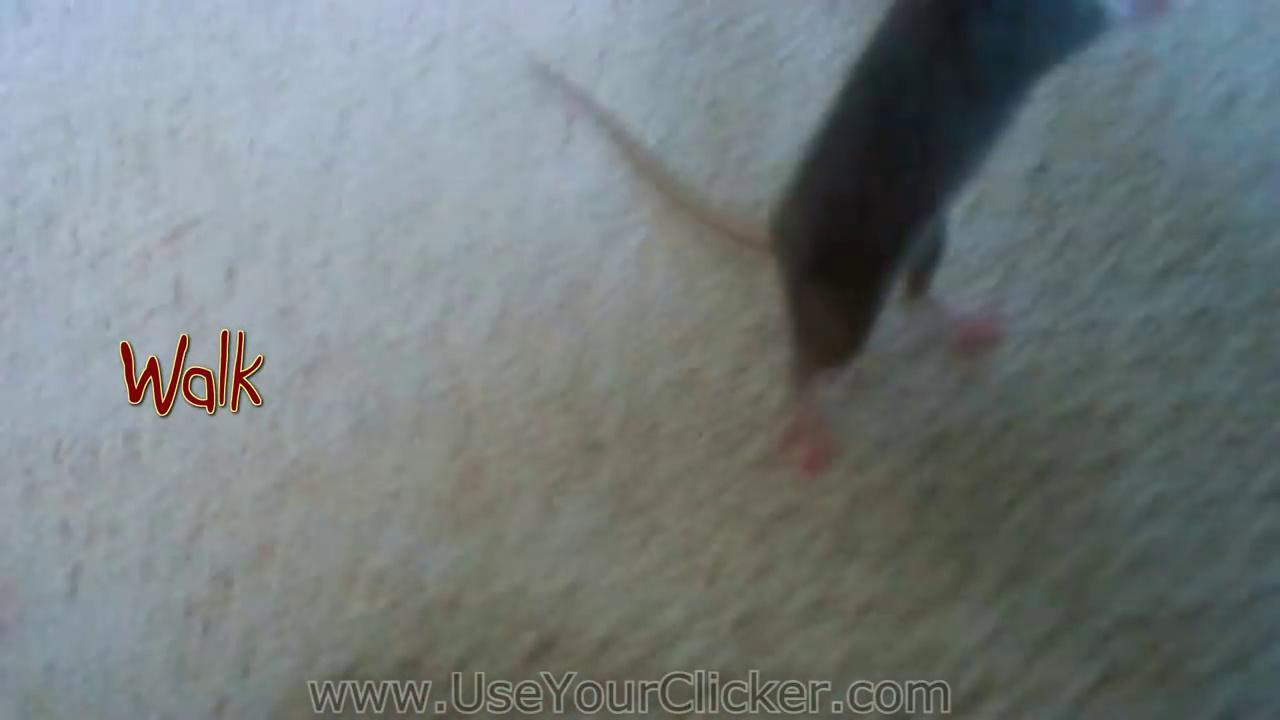rat: (530, 4, 1169, 422)
